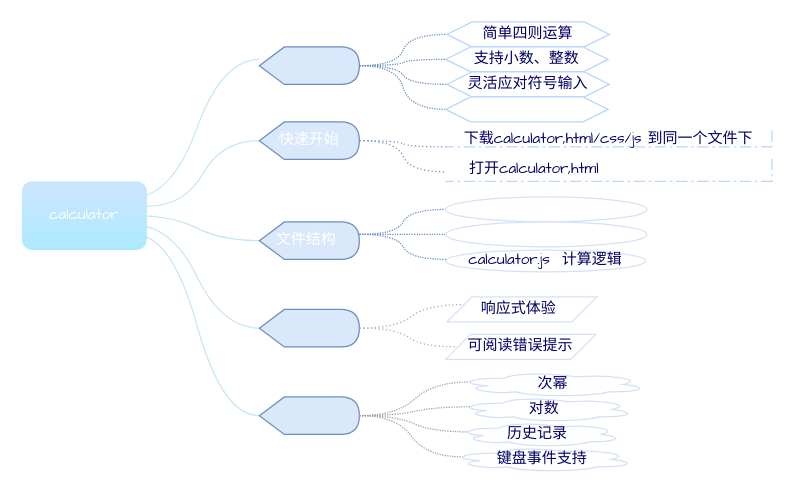
This 794x494 diagram has some shape labels left out. Here are the shapes that lost their labels. From the top down, the centre of each, then its label:
pixel 308 65: 基本功能
pixel 526 109: 提示输入错误
pixel 545 209: calculator.html 页面结构
pixel 545 234: calculator.css 样式设计
pixel 308 327: 用户体验
pixel 308 415: 即将改进
